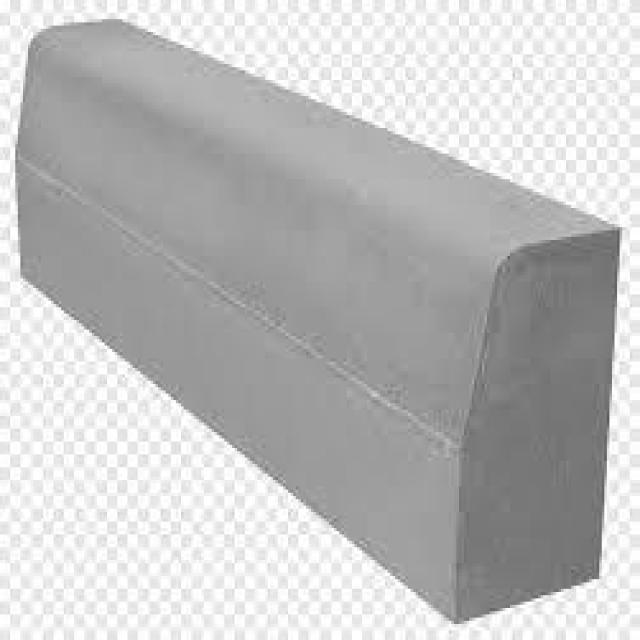curb: (12, 14, 623, 631)
